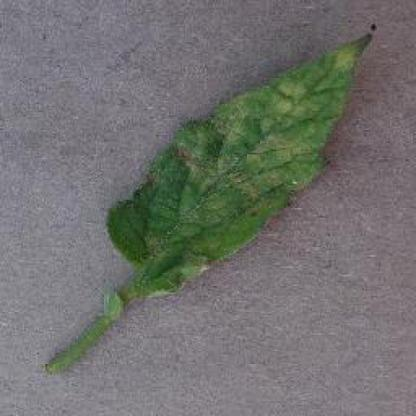Tomato_Leaf_Mold: (110, 21, 376, 290)
